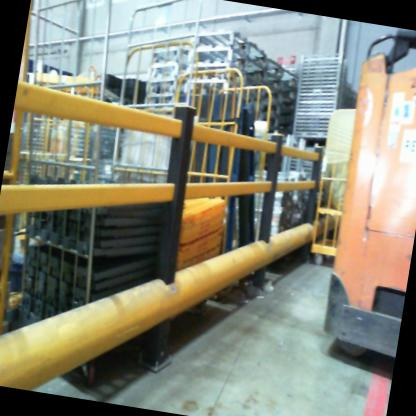pallet_truck: (311, 23, 416, 378)
